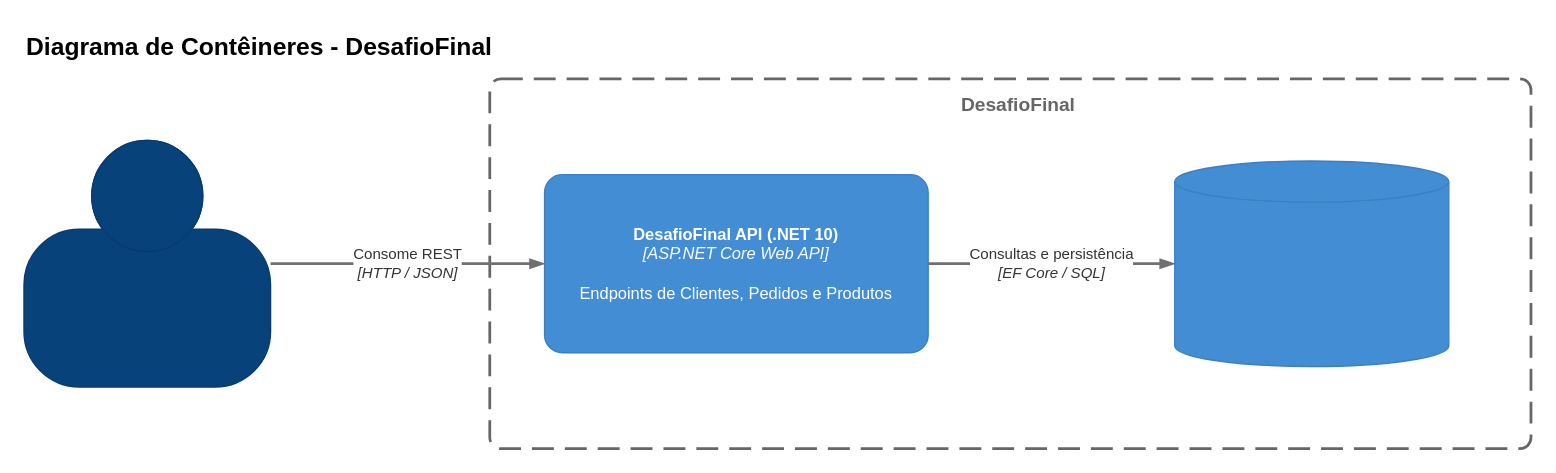
The diagram is 1556 pixels wide and 473 high, and some of its shapes have lost their labels. The shapes that lost their labels are listed below. From the top down, each one's centre as x and y in pixels, then its label:
point 147,263: Cliente / Consumidor API [Usuário / Sistema] Envia requisições
point 1311,263: SQLite Engine [SQLite In-Memory] Persistência em memória
